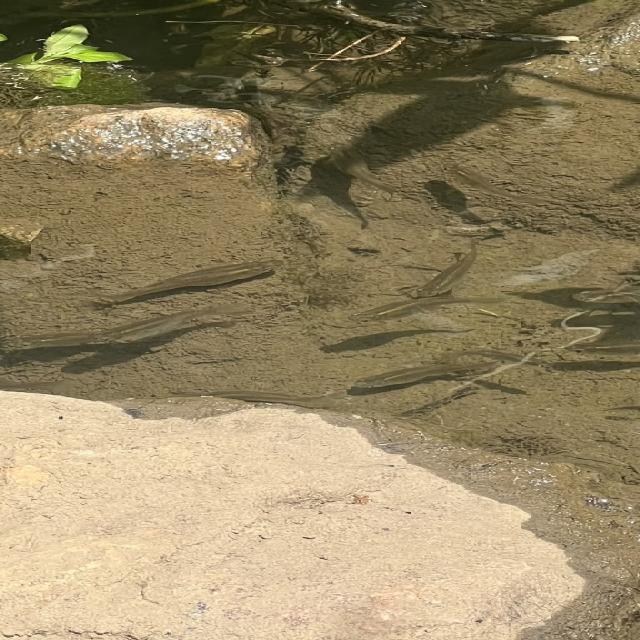Sivrisinek Baligi: (94, 256, 286, 302), (109, 300, 252, 345), (346, 294, 493, 330), (412, 242, 490, 299), (346, 360, 462, 398)
